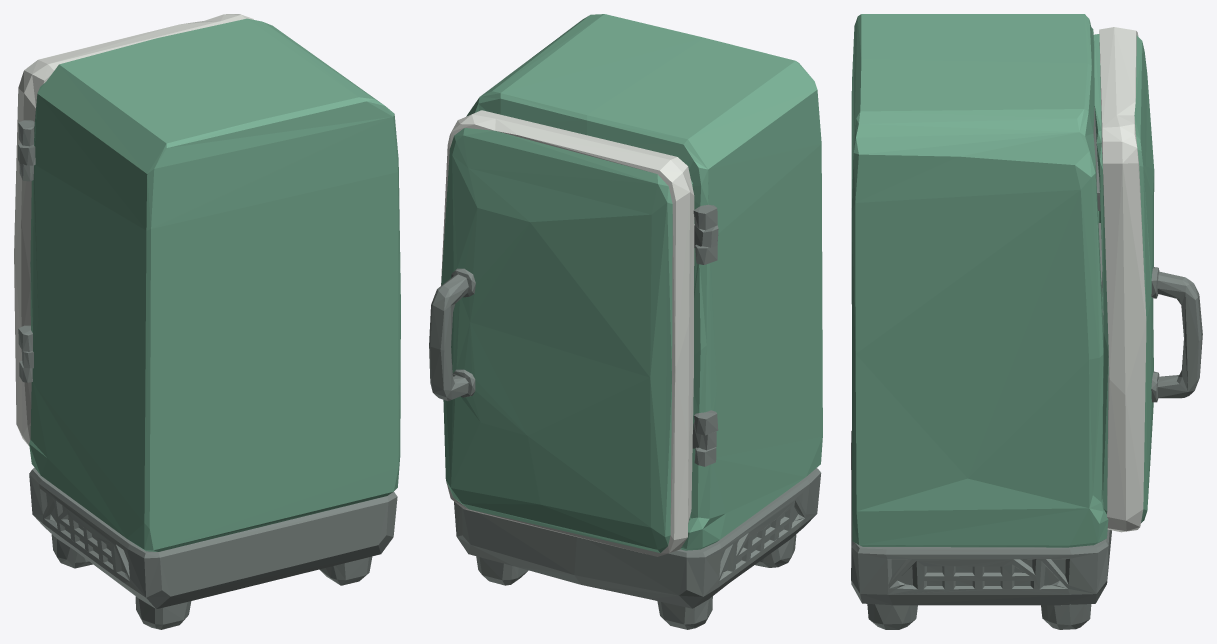
The model's file is Refrigerator.fbx.
3 renders of one model, left to right at view 1: azimuth 30°, elevation 25°; view 2: azimuth 150°, elevation 25°; view 3: azimuth 270°, elevation 25°, orthographic. The views are drawn at different scales.
Visible parts, largest first — view 1: Refrigerator_Main, Refrigerator_Part1; view 2: Refrigerator_Part1, Refrigerator_Main; view 3: Refrigerator_Main, Refrigerator_Part1.
Boxes of the visible parts, x1=… form: Refrigerator_Main: x1=18, y1=18, x2=400, y2=629; Refrigerator_Part1: x1=14, y1=14, x2=253, y2=445; Refrigerator_Part1: x1=429, y1=110, x2=718, y2=556; Refrigerator_Main: x1=454, y1=14, x2=822, y2=629; Refrigerator_Main: x1=851, y1=14, x2=1111, y2=629; Refrigerator_Part1: x1=1093, y1=27, x2=1202, y2=532.
Bounding box in the file's own units: 0.6933 × 0.7645 × 1.23.
